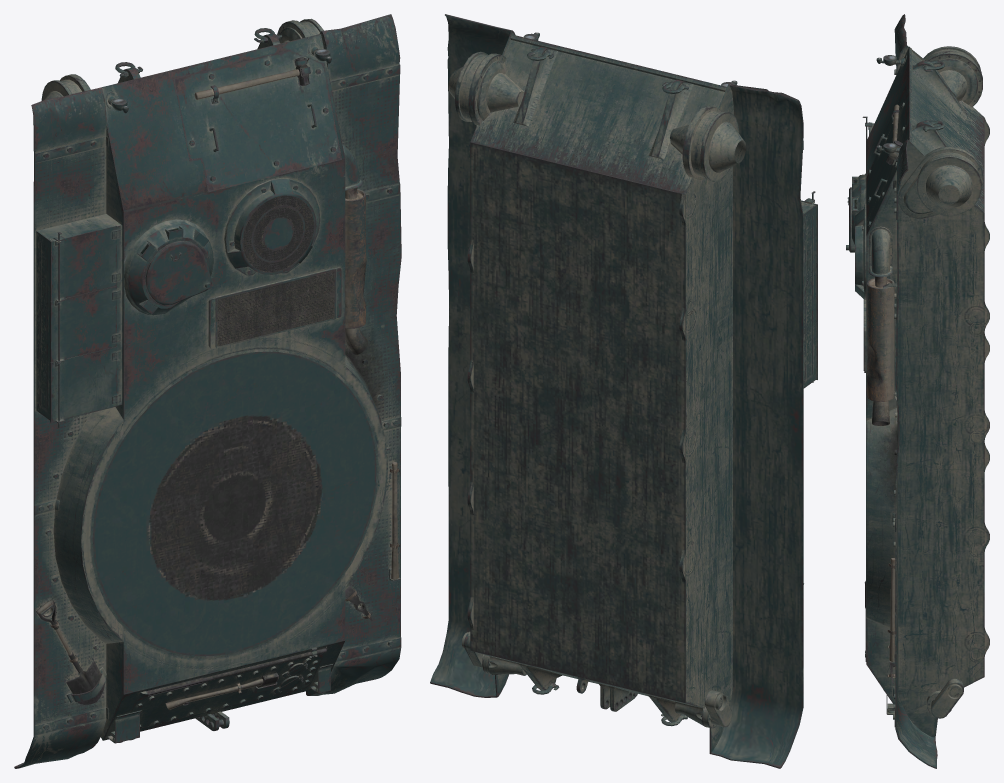
Rendered from Hull.glb.
The picture shows the model from 3 angles, left to right: view 1: azimuth 30°, elevation 25°; view 2: azimuth 150°, elevation 25°; view 3: azimuth 270°, elevation 25°; orthographic projection. The views are drawn at different scales.
Parts seen in each view (by area): view 1: set_0_group_0; view 2: set_0_group_0; view 3: set_0_group_0.
Boxes of the visible parts, x1,y1,x2,y2 form: set_0_group_0: [14, 14, 401, 768]; set_0_group_0: [430, 14, 817, 768]; set_0_group_0: [846, 14, 989, 768].
Bounding box in the file's own units: 3.02 × 5.35 × 1.16.
1 material, 1 textured.
